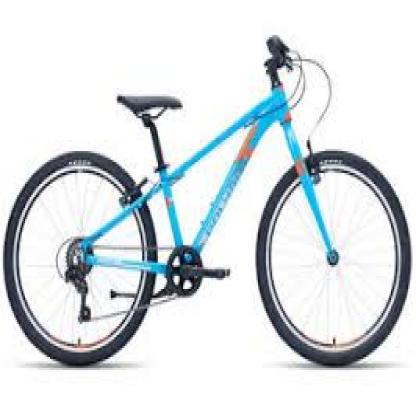Bike: (3, 40, 415, 369)
